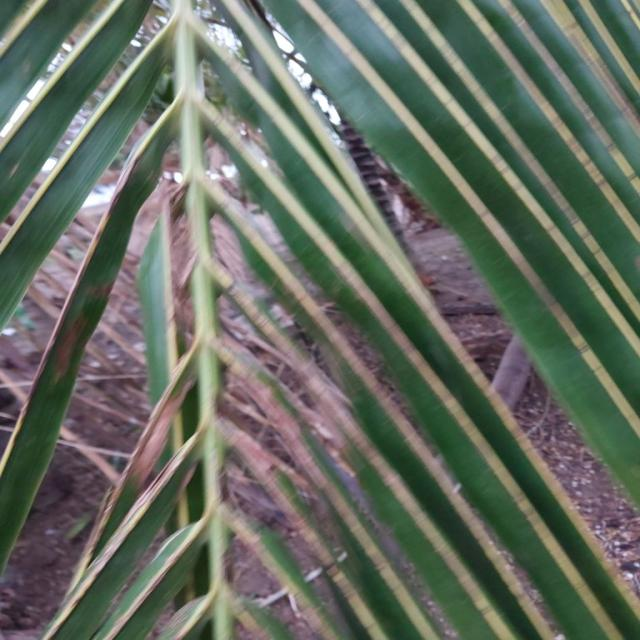gray leaf spot: (0, 0, 638, 639)
